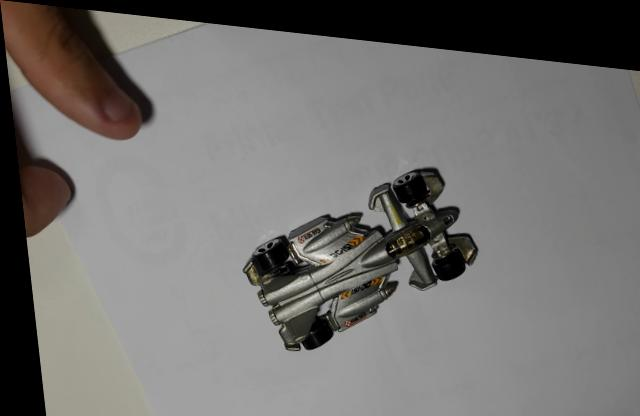05_DC121: (237, 156, 475, 345)
